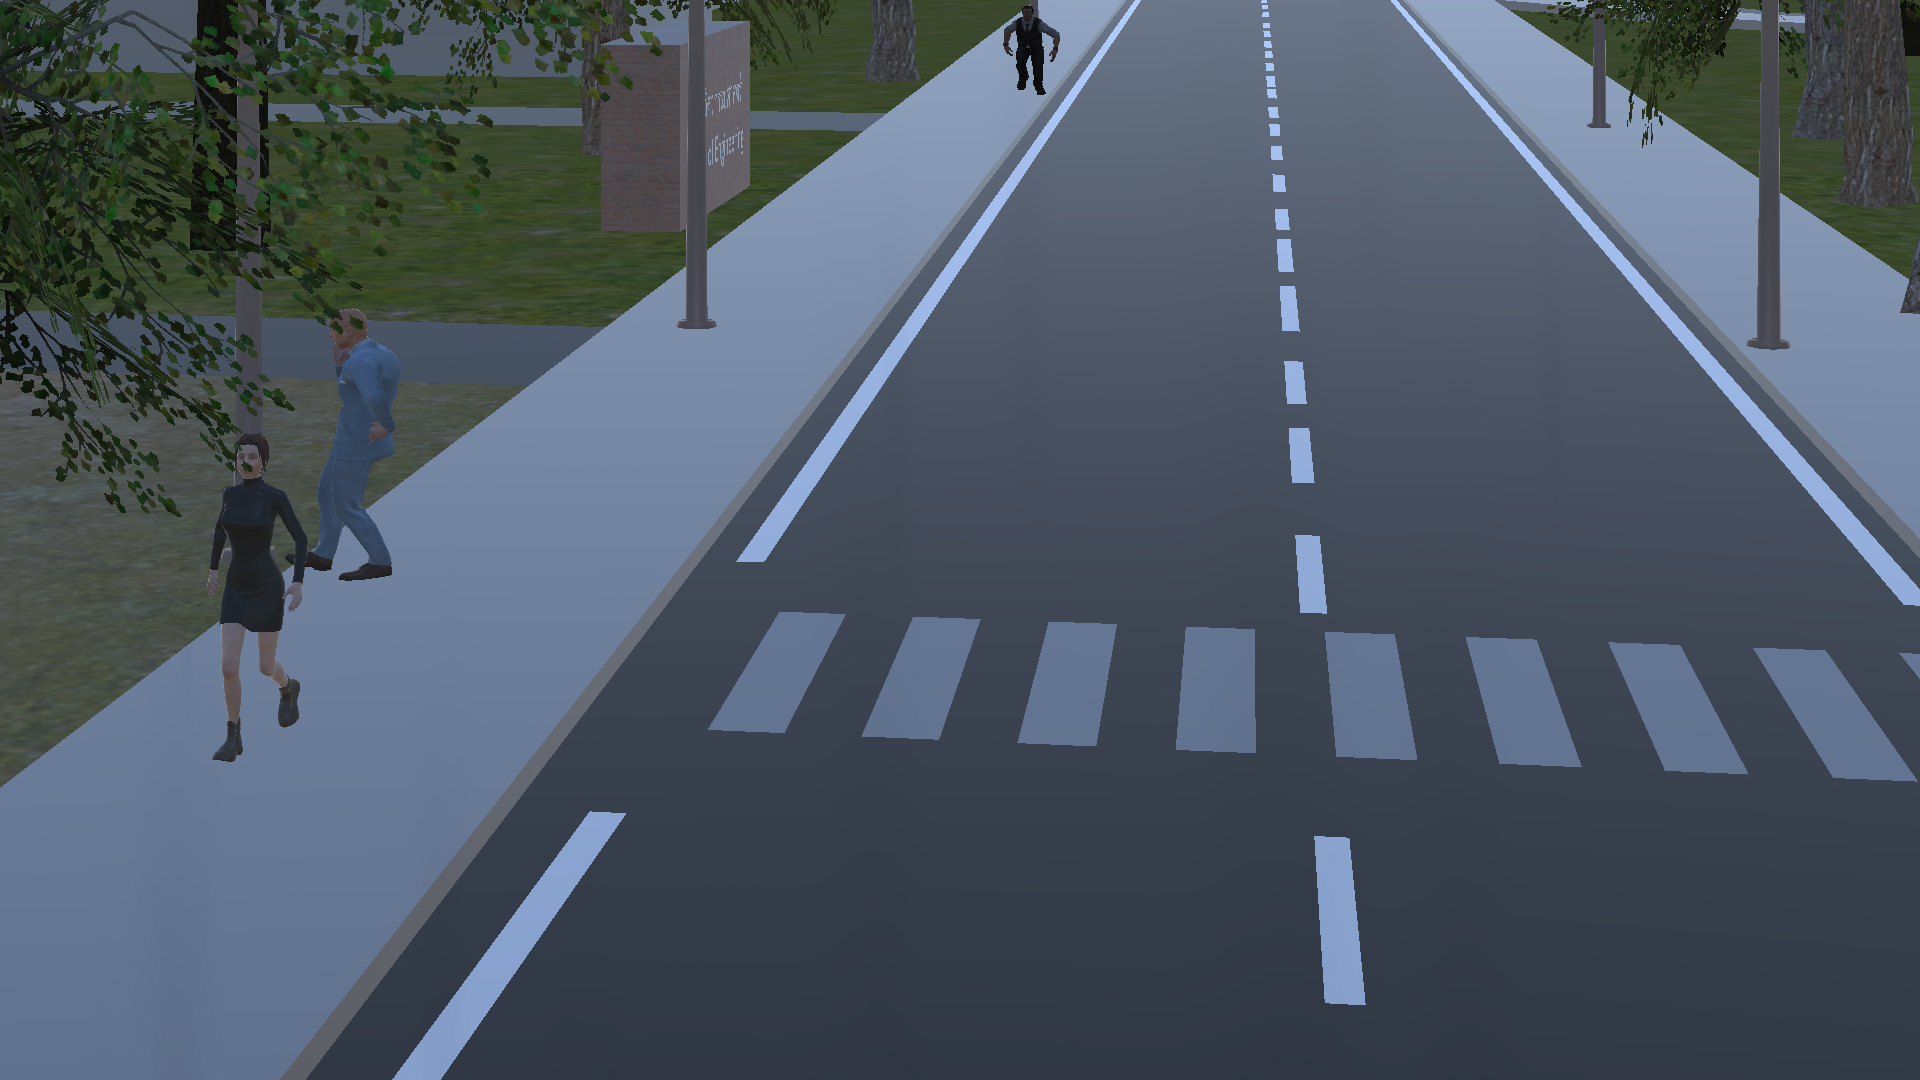pedestrian: (188, 426, 317, 775), (293, 294, 412, 599), (992, 2, 1093, 129)
